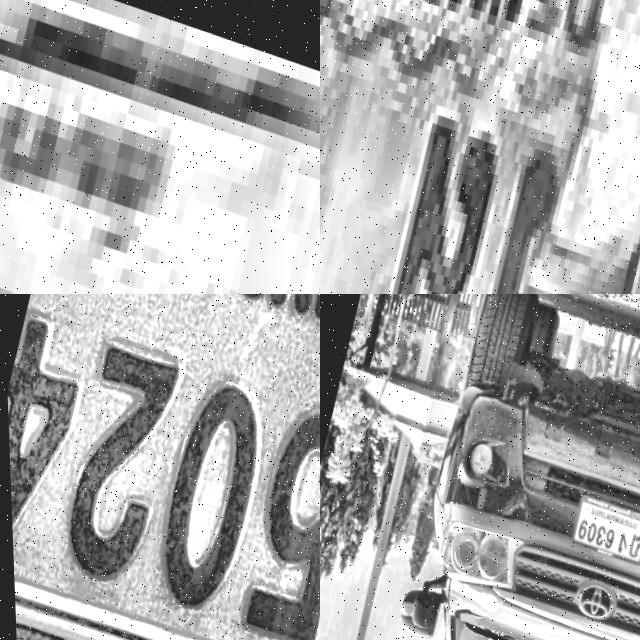license-plate: (0, 294, 320, 640), (0, 0, 320, 294), (320, 0, 640, 294), (564, 483, 640, 560)
